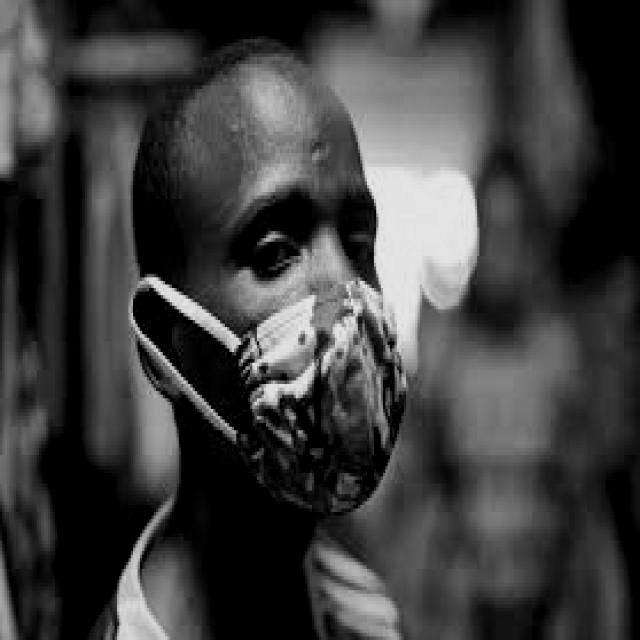fake: (228, 281, 418, 519)
real: (178, 50, 418, 533)
